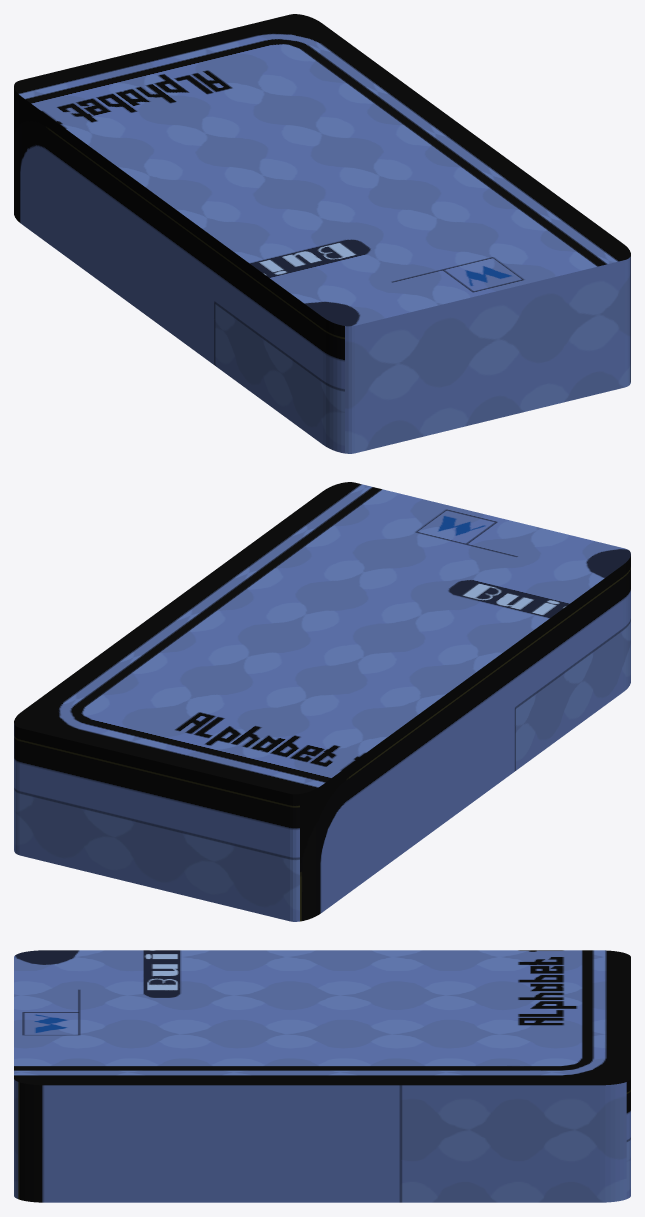
File: Carte-Imprevisto-Final.fbx
The picture shows the model from 3 angles, top to bottom: view 1: azimuth 30°, elevation 25°; view 2: azimuth 150°, elevation 25°; view 3: azimuth 270°, elevation 25°; orthographic projection. The views are drawn at different scales.
Parts seen in each view (by area): view 1: Cube; view 2: Cube; view 3: Cube.
Boxes of the visible parts, x1=… form: Cube: x1=14, y1=14, x2=630, y2=453; Cube: x1=14, y1=482, x2=630, y2=921; Cube: x1=14, y1=950, x2=630, y2=1202.
Size of the model in its own units: 249 by 101 by 481.
1 material, 1 textured.
